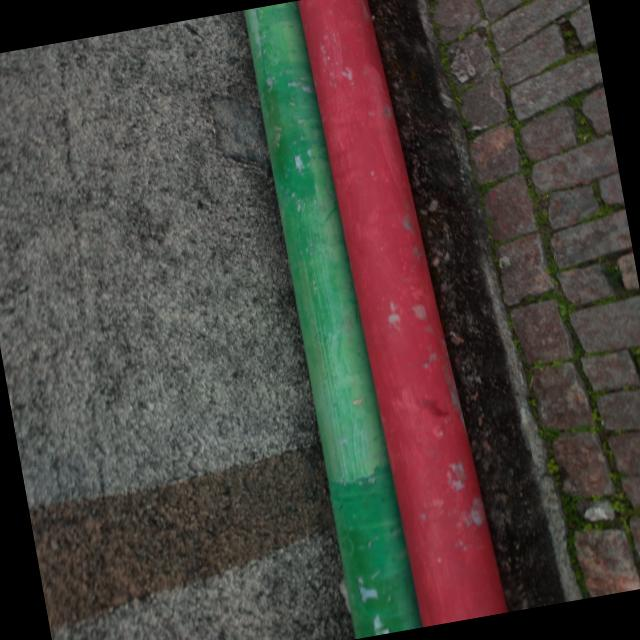gas: (299, 0, 510, 627), (245, 0, 419, 639)
